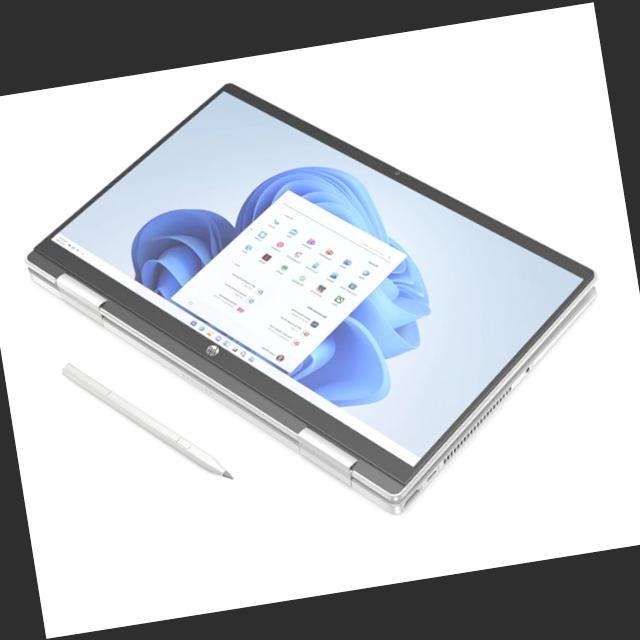laptop: (0, 21, 640, 570)
